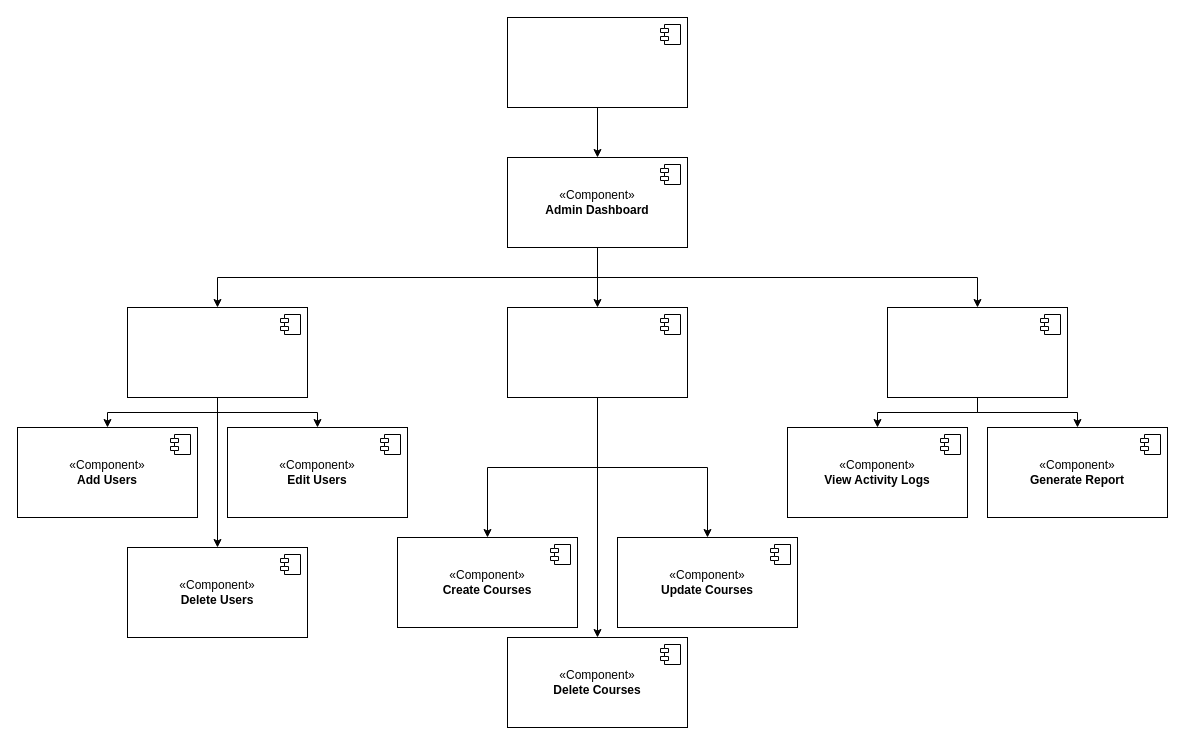
Some shapes in this 1185 by 745 pixel diagram are drawn without their labels. Each missing label, with the centre of its shape:
"«Component» Login" belongs at [597,62].
"«Component» Manage Courses" belongs at [597,352].
"«Component» Manage Users" belongs at [217,352].
"«Component» Monitor System" belongs at [977,352].
